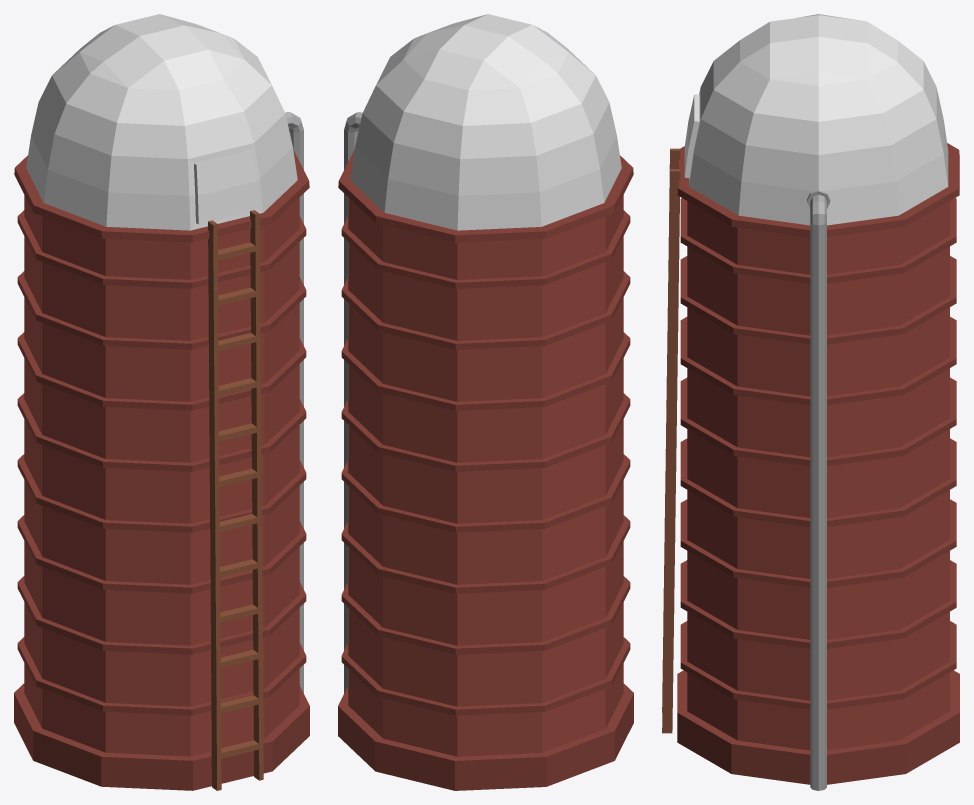
Rendered from silo.glb.
3 views of the same model, side by side, from view 1: azimuth 30°, elevation 25°; view 2: azimuth 150°, elevation 25°; view 3: azimuth 270°, elevation 25° (orthographic).
Parts seen in each view (by area): view 1: Silo; view 2: Silo; view 3: Silo.
Part boxes in pixels (box(x1,y1,x2,y2)): Silo: box(14, 14, 309, 790); Silo: box(338, 14, 633, 790); Silo: box(662, 14, 959, 790).
Size of the model in its own units: 3.67 by 9.07 by 3.51.
